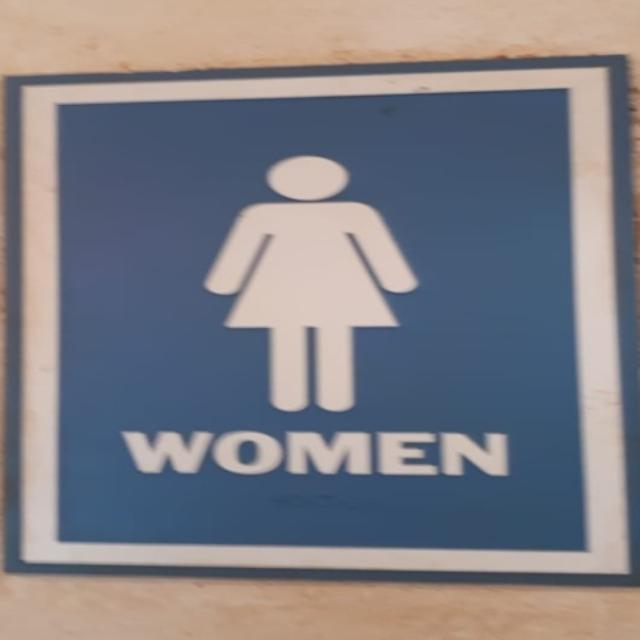wc nu: (7, 56, 639, 582)
